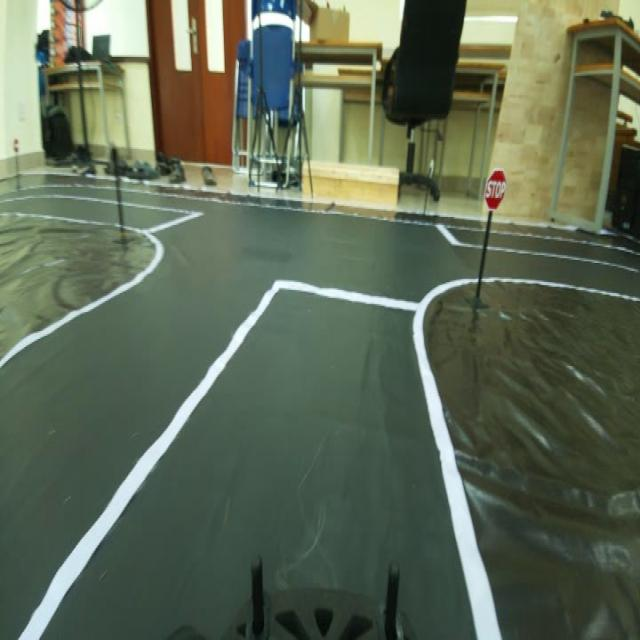stop: (478, 162, 510, 208)
